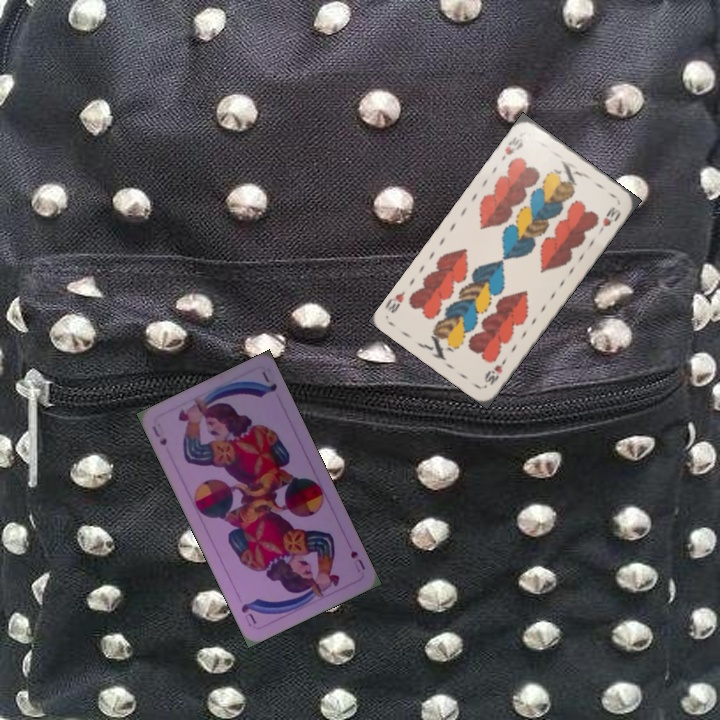H10: (480, 354, 510, 388), (497, 133, 526, 163)
SU: (346, 546, 368, 575), (148, 422, 170, 448)
